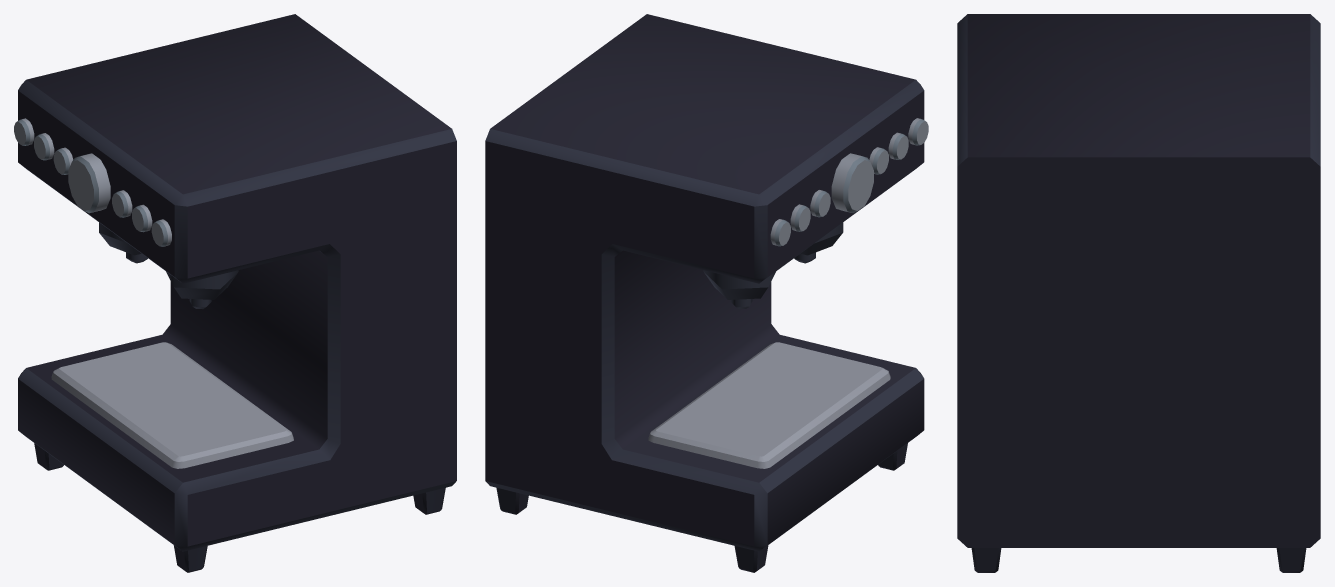
Rendered from CoffeeMachine_1_G.glb.
3 renders of one model, left to right at view 1: azimuth 30°, elevation 25°; view 2: azimuth 150°, elevation 25°; view 3: azimuth 270°, elevation 25°, orthographic. The views are drawn at different scales.
Visible parts, largest first — view 1: CoffeeMachine_1_G; view 2: CoffeeMachine_1_G; view 3: CoffeeMachine_1_G.
Part boxes in pixels (x1=…): CoffeeMachine_1_G: x1=14, y1=14, x2=456, y2=572; CoffeeMachine_1_G: x1=485, y1=14, x2=928, y2=572; CoffeeMachine_1_G: x1=957, y1=14, x2=1320, y2=572.
Bounding box in the file's own units: 0.4943 × 0.6201 × 0.4868.
Materials: 2 (2 with a texture image).
